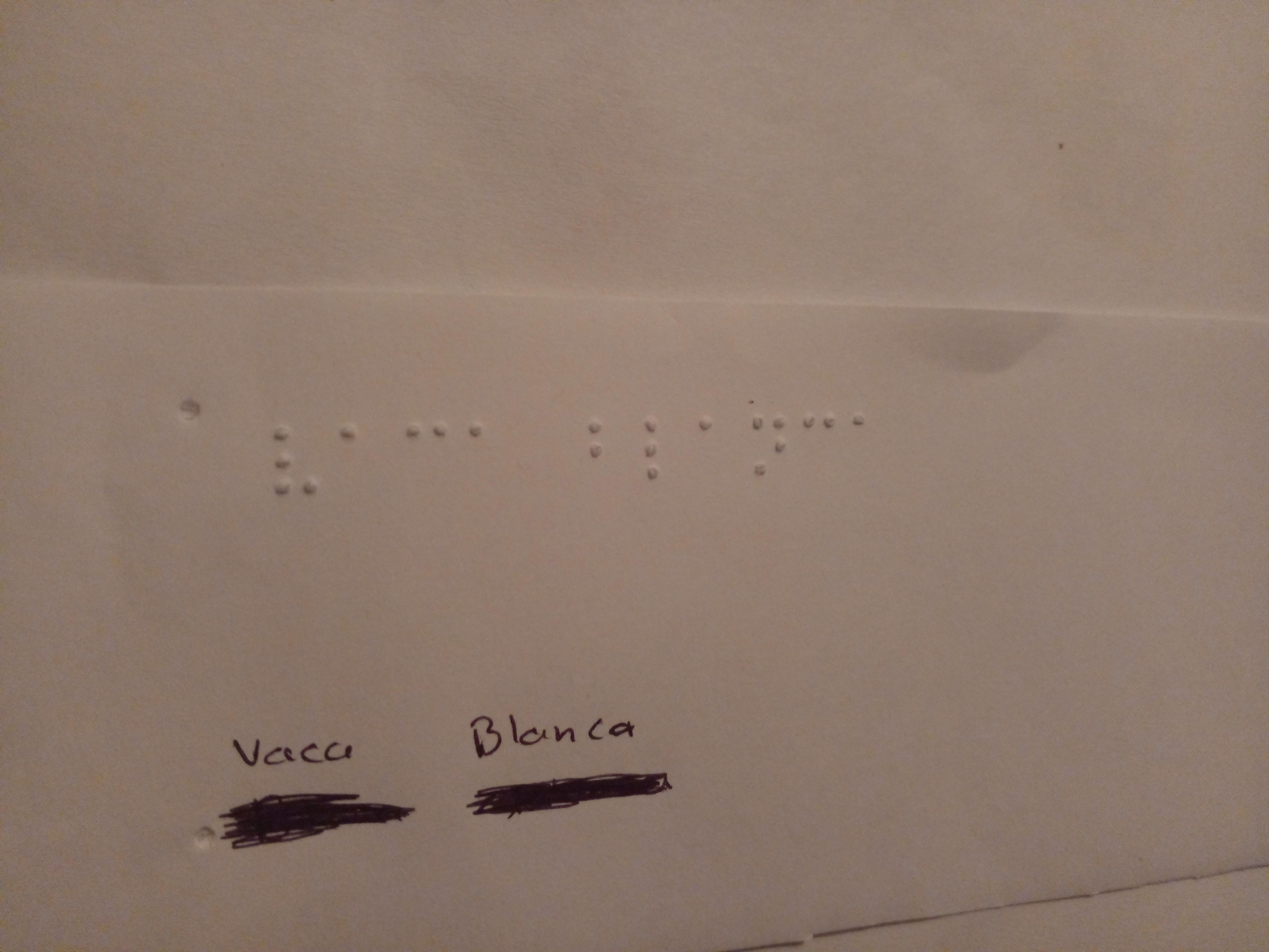a: (314, 400, 383, 476), (843, 404, 885, 456), (685, 400, 722, 448), (459, 415, 493, 452)
b: (564, 400, 624, 474)
c: (390, 400, 455, 477), (801, 403, 841, 463)
l: (632, 414, 685, 497)
n: (748, 404, 796, 482)
v: (262, 409, 319, 518)
